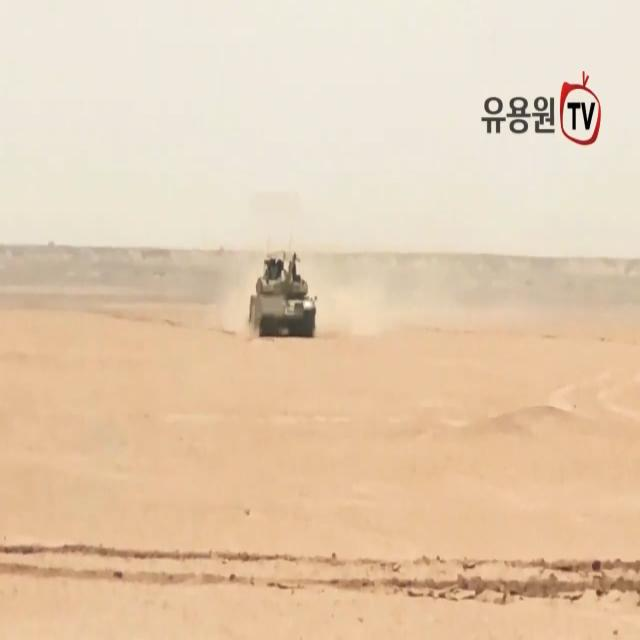korea tank: (246, 250, 318, 340)
